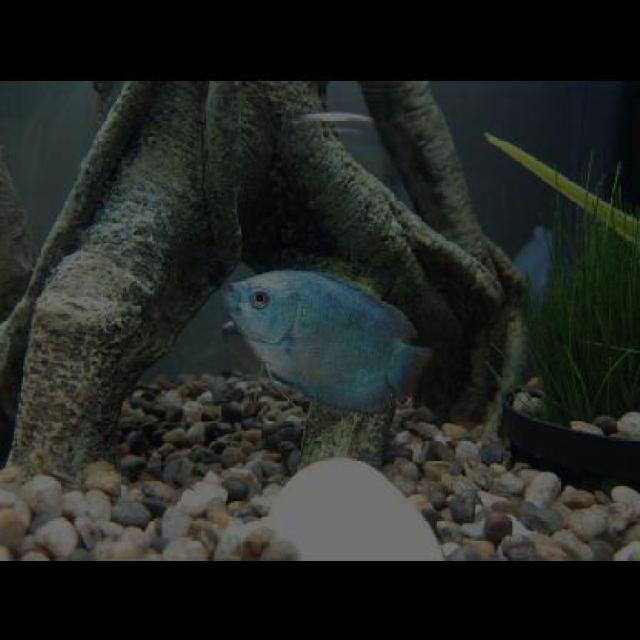Gourami: (224, 269, 430, 408)
